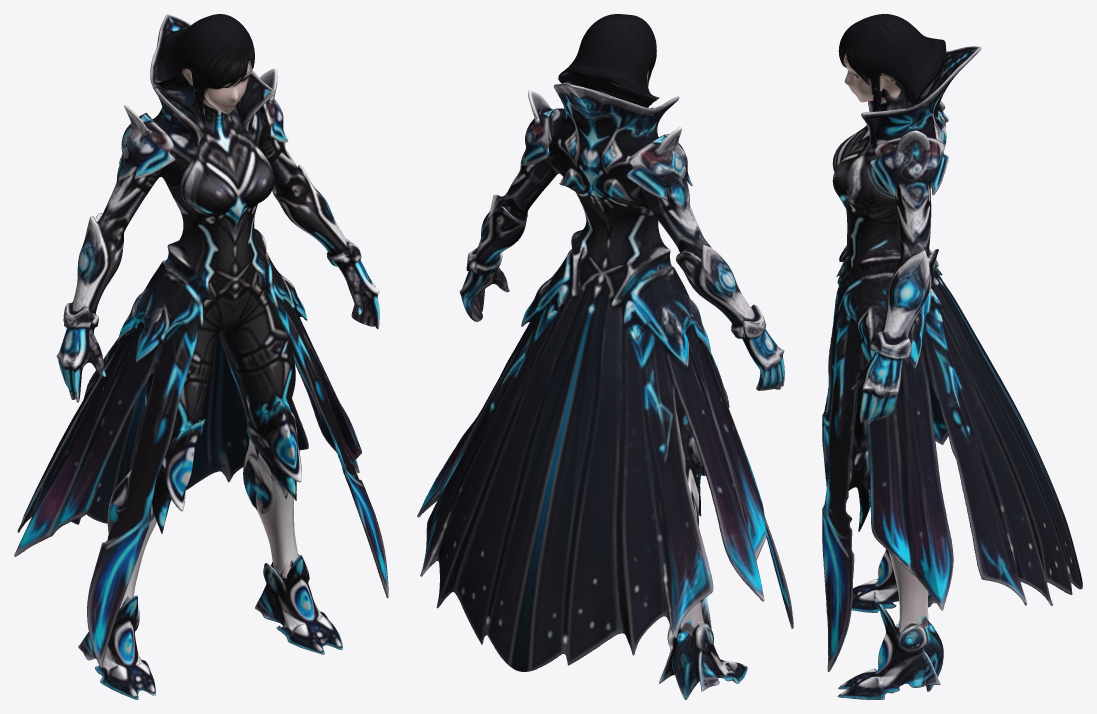
File: lyra_n1.glb
The picture shows the model from 3 angles, left to right: view 1: azimuth 30°, elevation 25°; view 2: azimuth 150°, elevation 25°; view 3: azimuth 270°, elevation 25°; orthographic projection.
Bounding box in the file's own units: 1.07 × 1.9 × 0.7085.
1 material, 1 textured.
